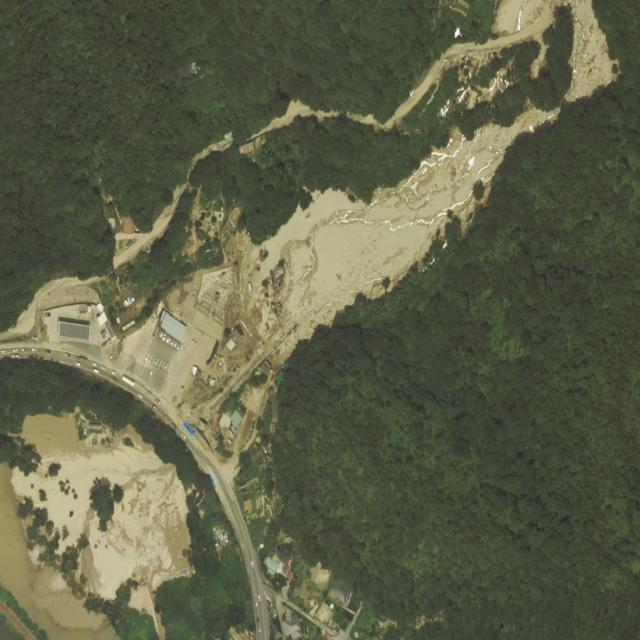landslide: (223, 103, 561, 392), (566, 1, 617, 102)
